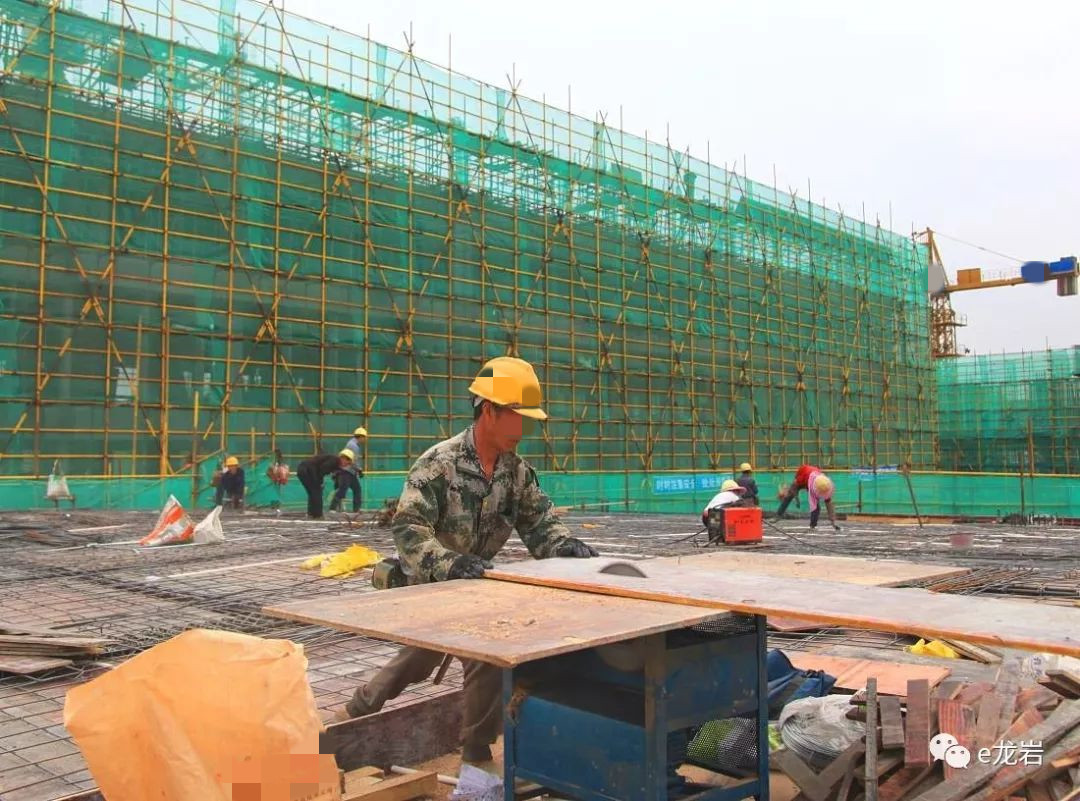helmet: (467, 356, 547, 421), (341, 448, 355, 465), (816, 478, 830, 493), (722, 479, 737, 488), (353, 427, 367, 436), (226, 456, 238, 466), (740, 462, 751, 472)
person: (333, 354, 602, 801), (769, 465, 844, 533), (296, 448, 355, 518), (328, 426, 368, 515), (702, 479, 747, 544), (214, 456, 245, 512), (737, 462, 761, 506)
